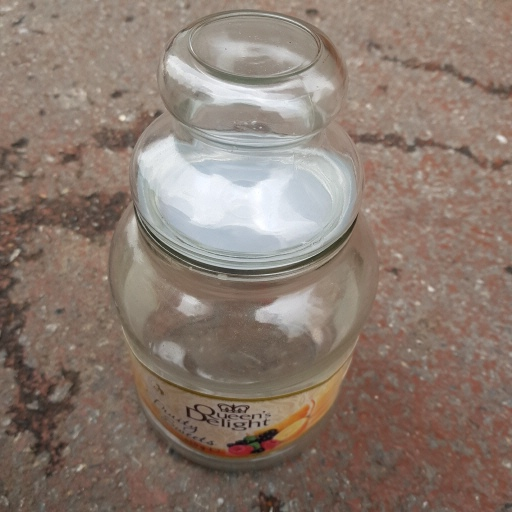Glass_5: (107, 16, 377, 464)
